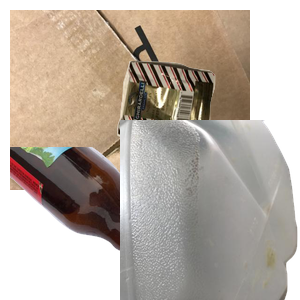cardboard: (10, 10, 250, 190)
glass: (10, 147, 207, 300)
plastic: (120, 120, 300, 300)
trash: (115, 58, 300, 200)
